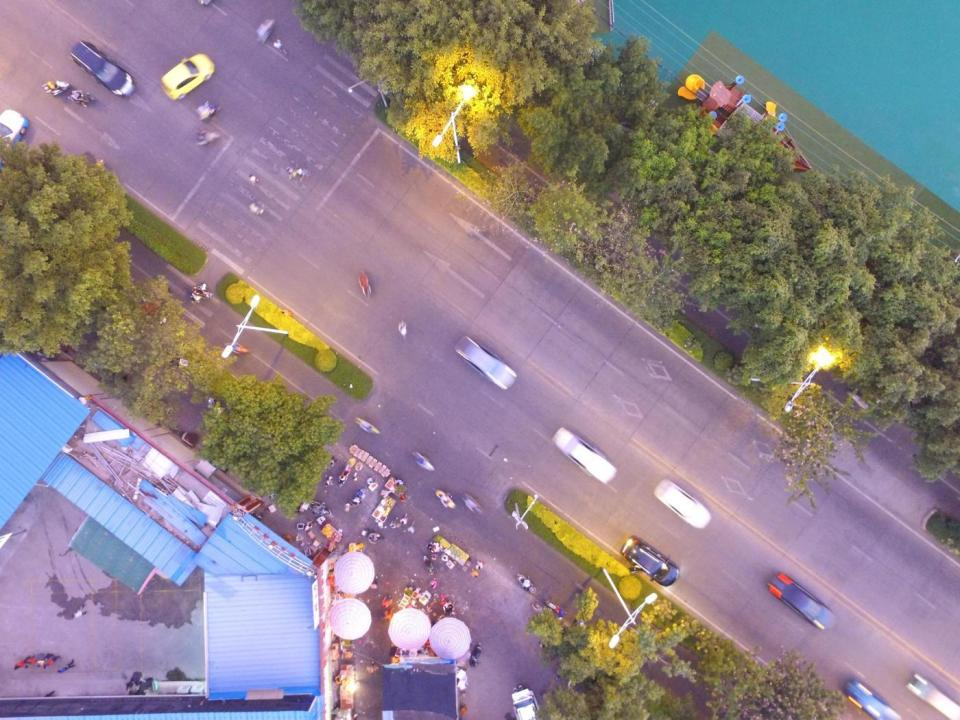car: (765, 572, 836, 629), (70, 40, 134, 96), (453, 334, 517, 390), (620, 534, 679, 585), (653, 478, 712, 529), (160, 54, 214, 100), (844, 679, 903, 720), (0, 109, 29, 170), (512, 689, 539, 720)
van: (552, 425, 615, 484), (906, 674, 960, 718)
